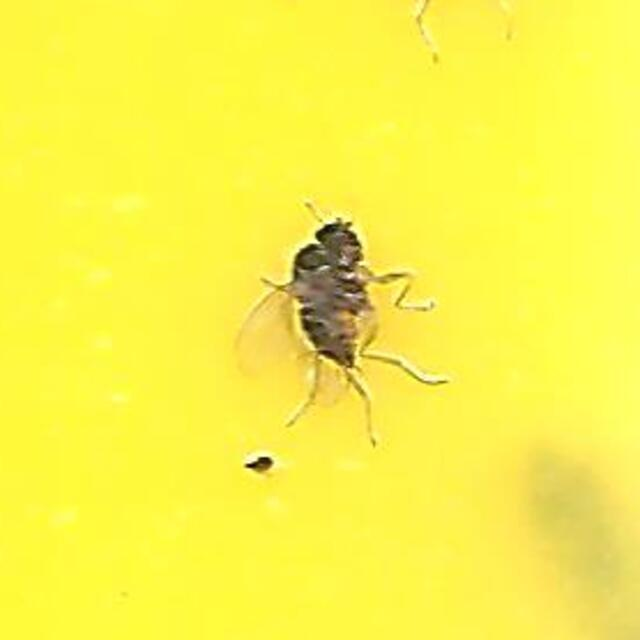Brachycera: (230, 218, 410, 422)
